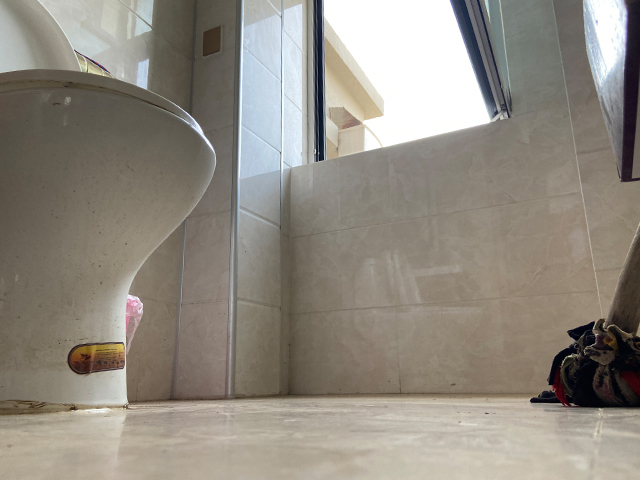closestool: (1, 1, 218, 414)
